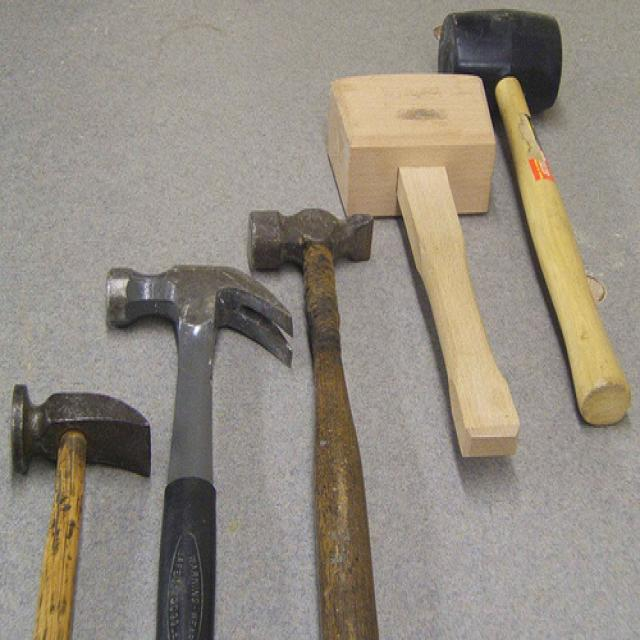hammer: (321, 66, 534, 472), (438, 5, 638, 430), (102, 252, 300, 638), (242, 200, 389, 640), (4, 371, 155, 640)
